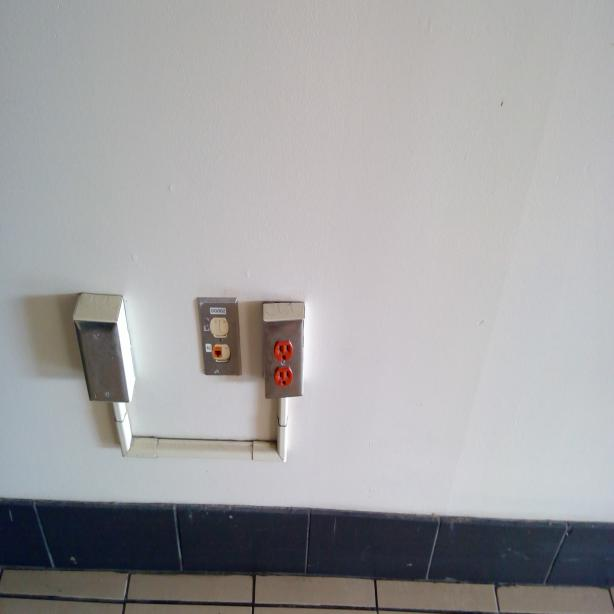typeb: (272, 364, 294, 389), (275, 340, 293, 364)
